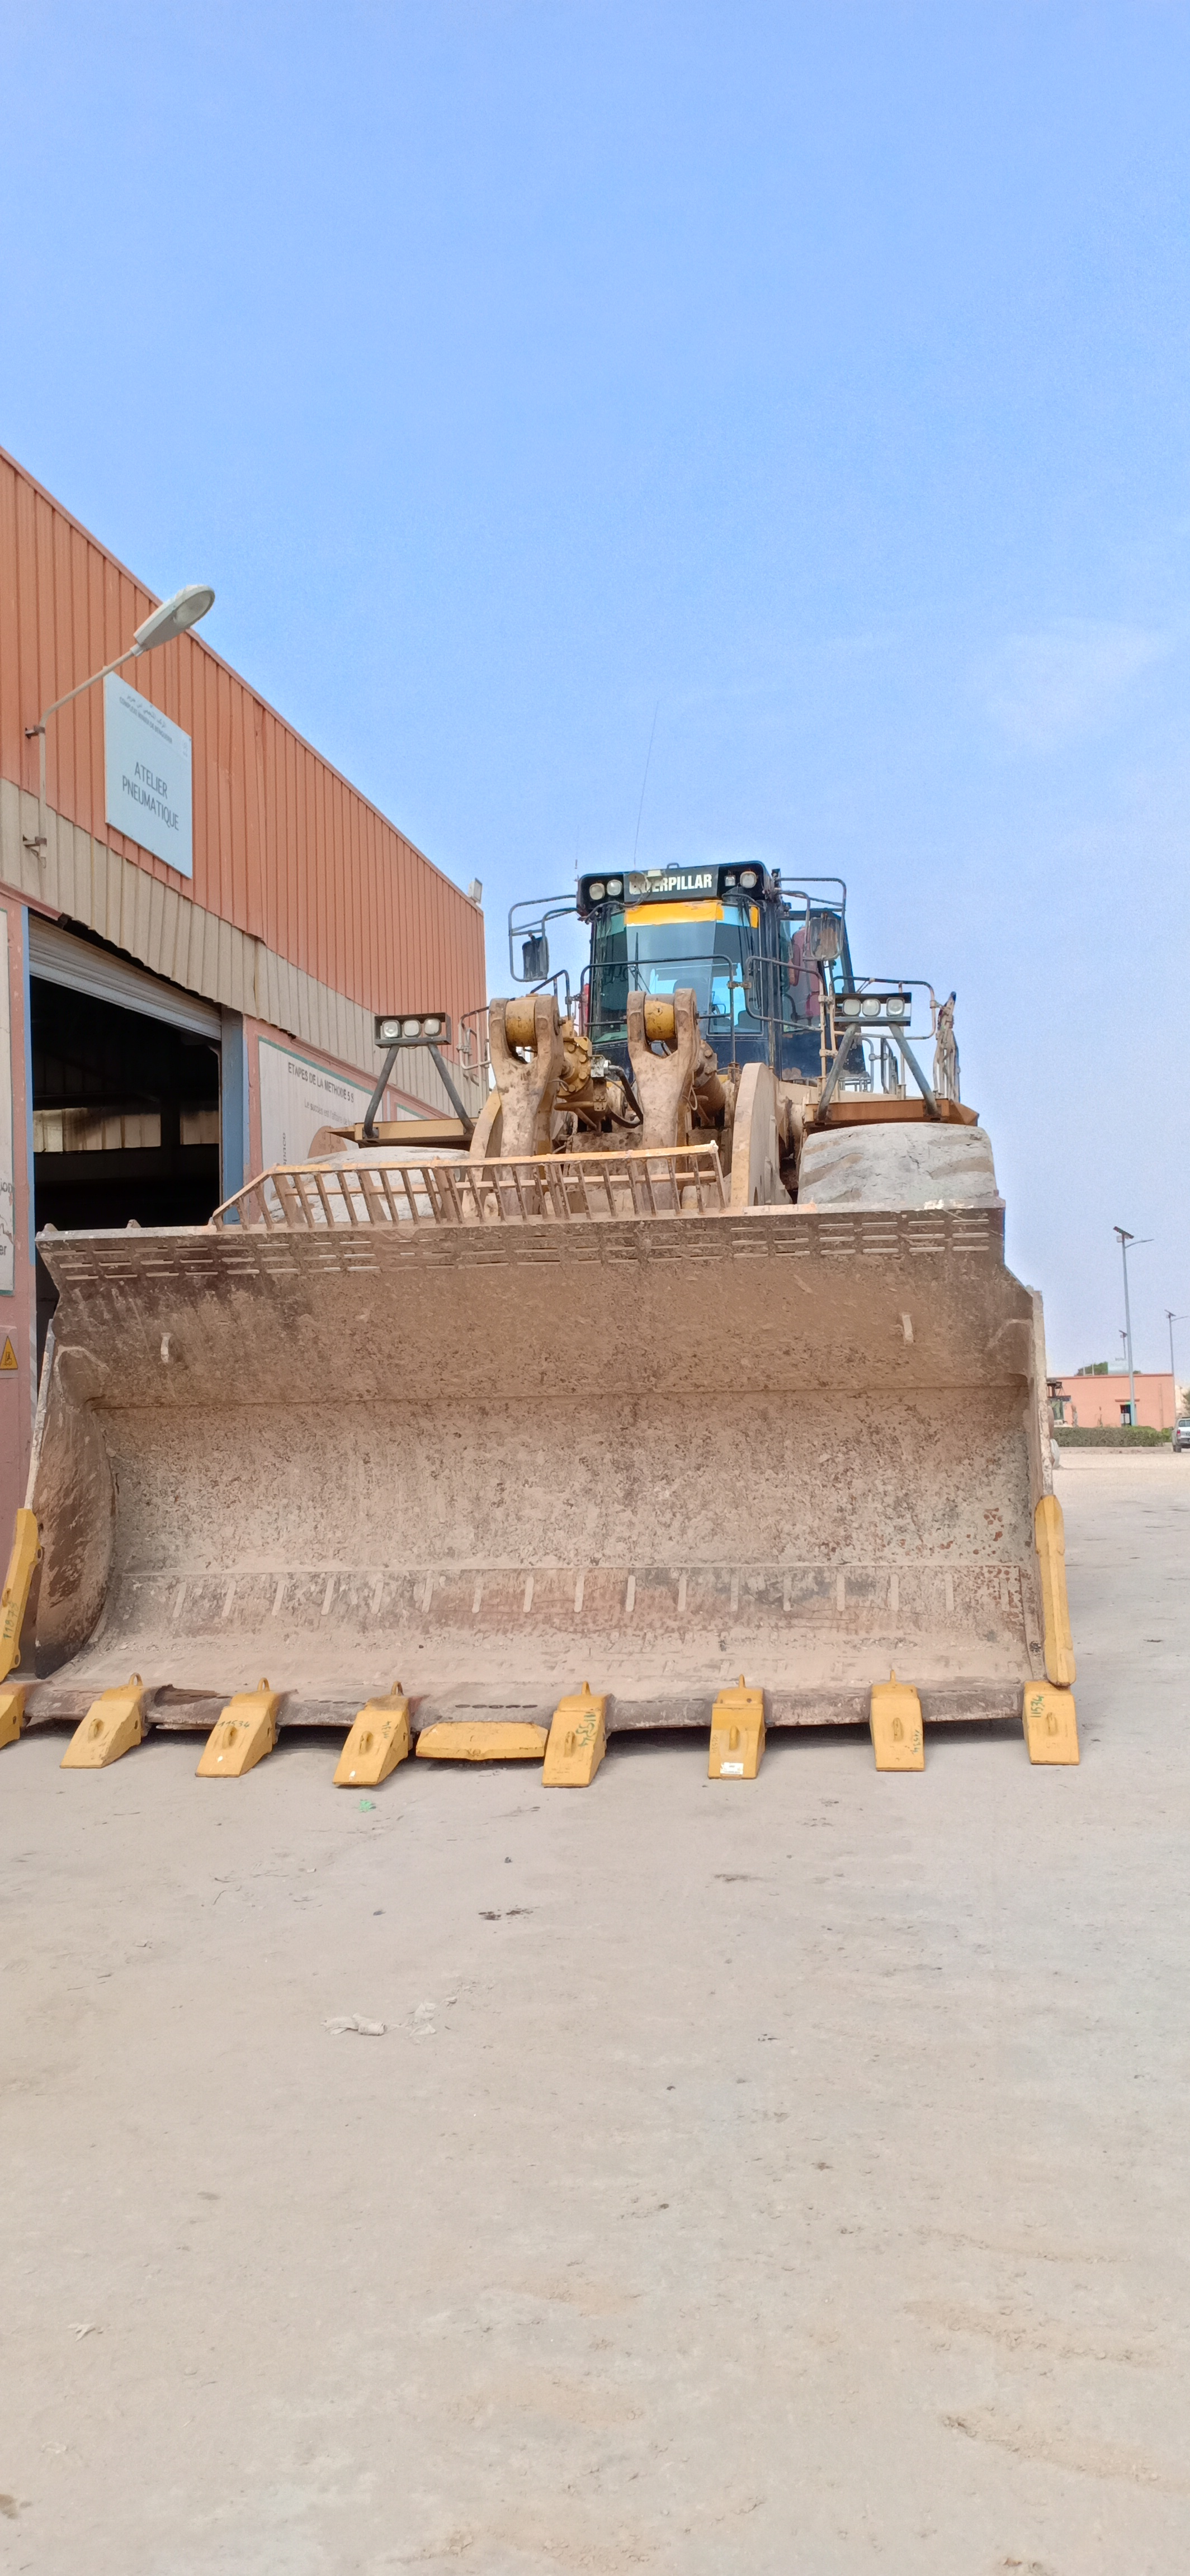chargeuse: (0, 841, 1098, 1799)
